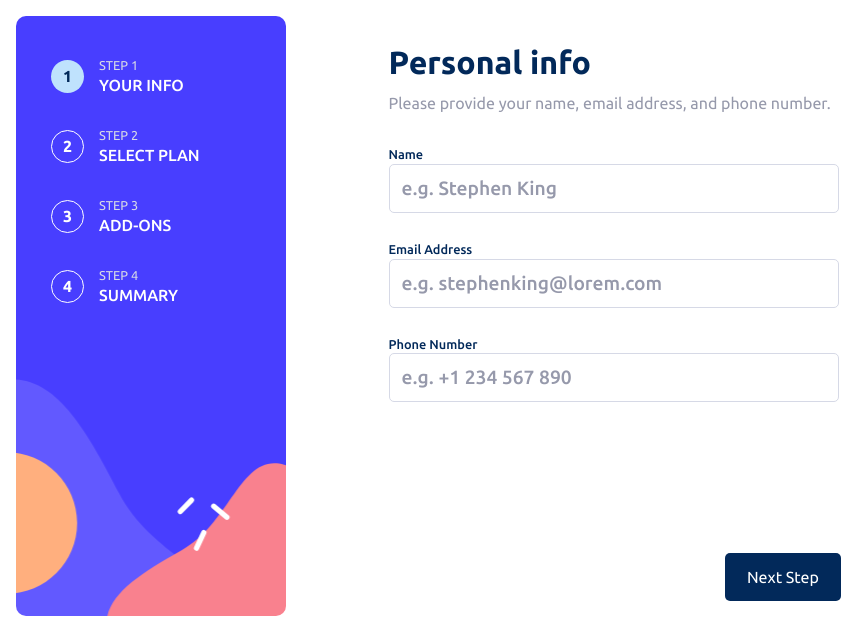
Test case: Integration between the main component and the forms it loads › Should hide the actual form and render the next
Click the button "Next Step" at (783, 577), box [725,553,841,601]
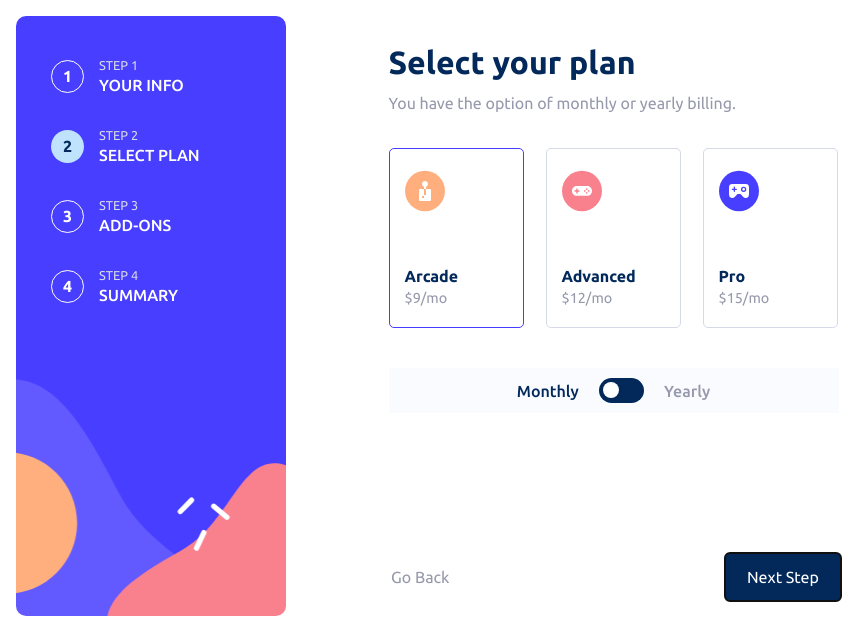
Expected: the heading "Select your plan" is shown, [388,44,636,80]
